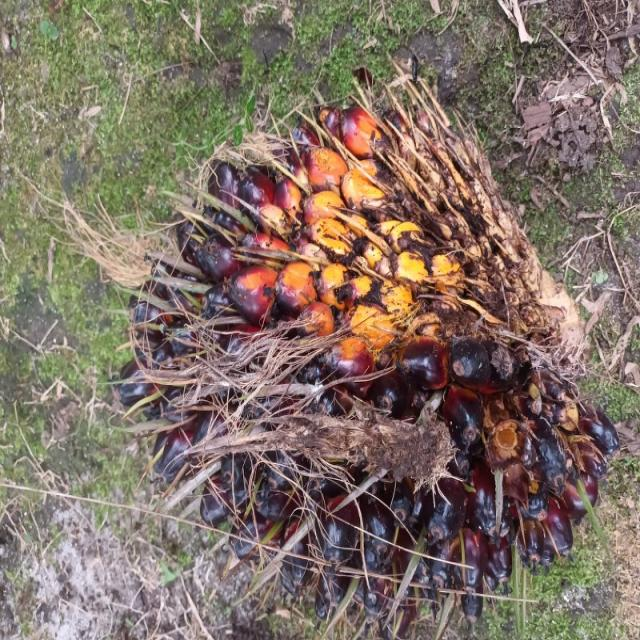fraksi 00: (22, 113, 452, 640)
